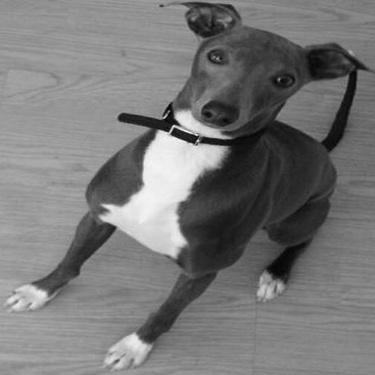dog: (6, 1, 370, 371)
